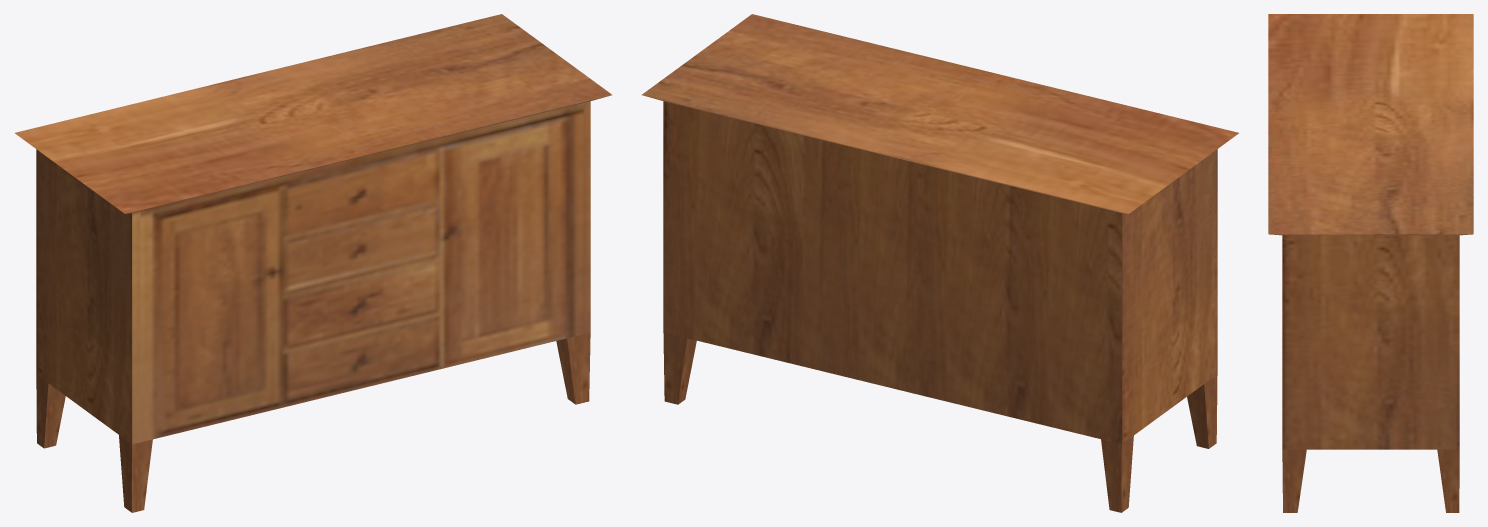
File: chest_drawer.glb
The picture shows the model from 3 angles, left to right: view 1: azimuth 30°, elevation 25°; view 2: azimuth 150°, elevation 25°; view 3: azimuth 270°, elevation 25°; orthographic projection. The views are drawn at different scales.
Parts seen in each view (by area): view 1: Chest_drawers_05; view 2: Chest_drawers_05; view 3: Chest_drawers_05.
Boxes of the visible parts, <box> form: Chest_drawers_05: <box>14,14,611,512</box>; Chest_drawers_05: <box>642,14,1238,512</box>; Chest_drawers_05: <box>1268,14,1473,512</box>.
Size of the model in its own units: 1.74 by 1.05 by 0.6849.
1 material, 1 textured.
